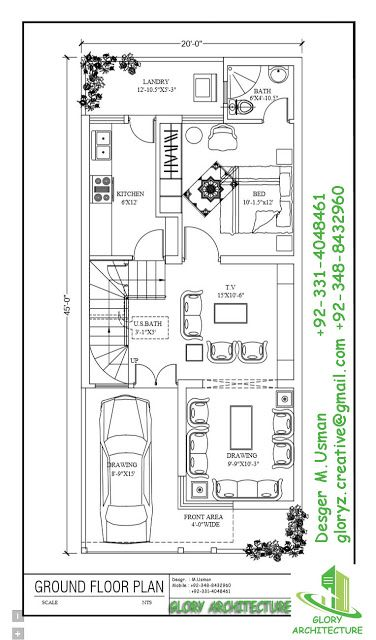door: (182, 222, 220, 256), (131, 359, 180, 381), (128, 227, 165, 255), (258, 94, 290, 119), (127, 122, 155, 146)
